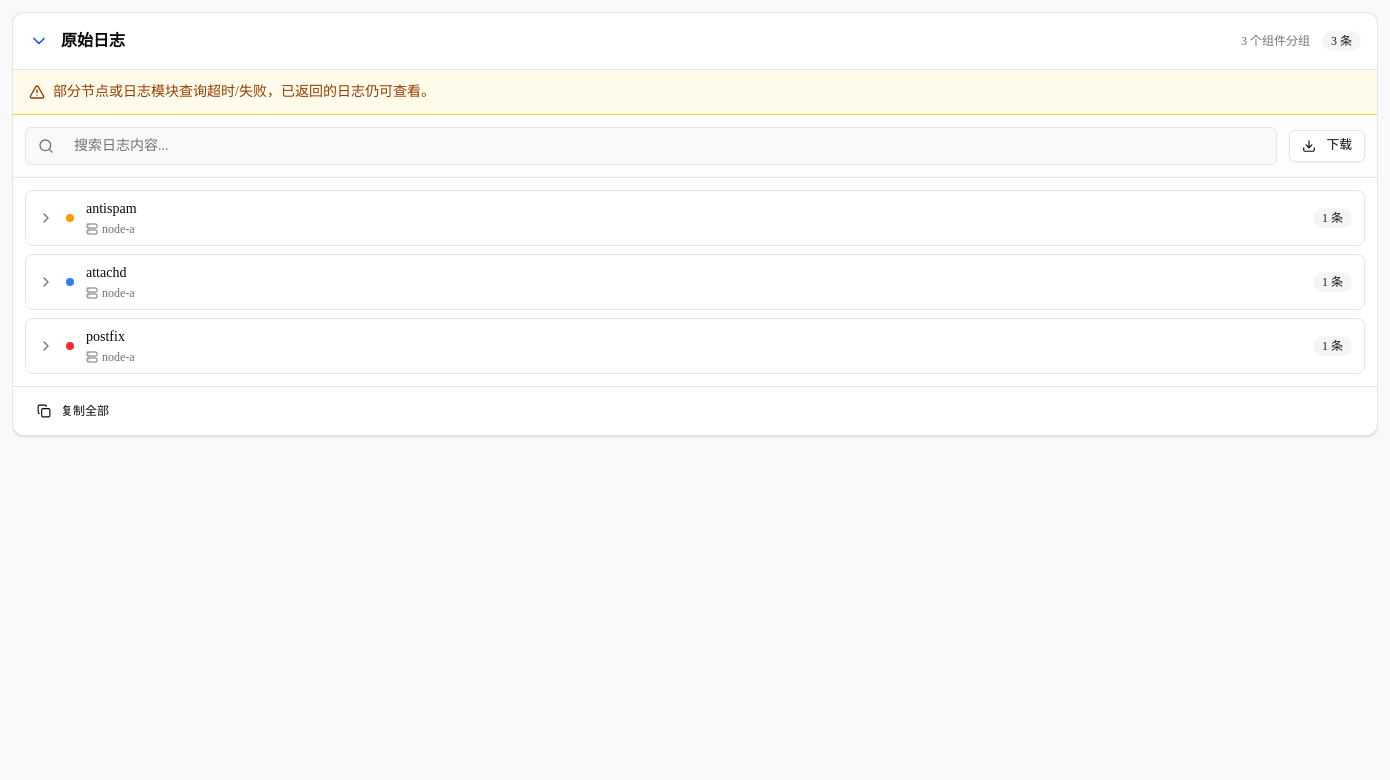
RawLogsSection › marks node-or-module partial results without hiding returned logs
Expected: the element with test id "raw-logs-partial-warning" shows "部分节点或日志模块查询超时/失败", left=53, top=84, right=435, bottom=99
Click the button with test id "^raw-log-group-trigger-\\d+$" at (111, 208), box left=26, top=191, right=1364, bottom=245
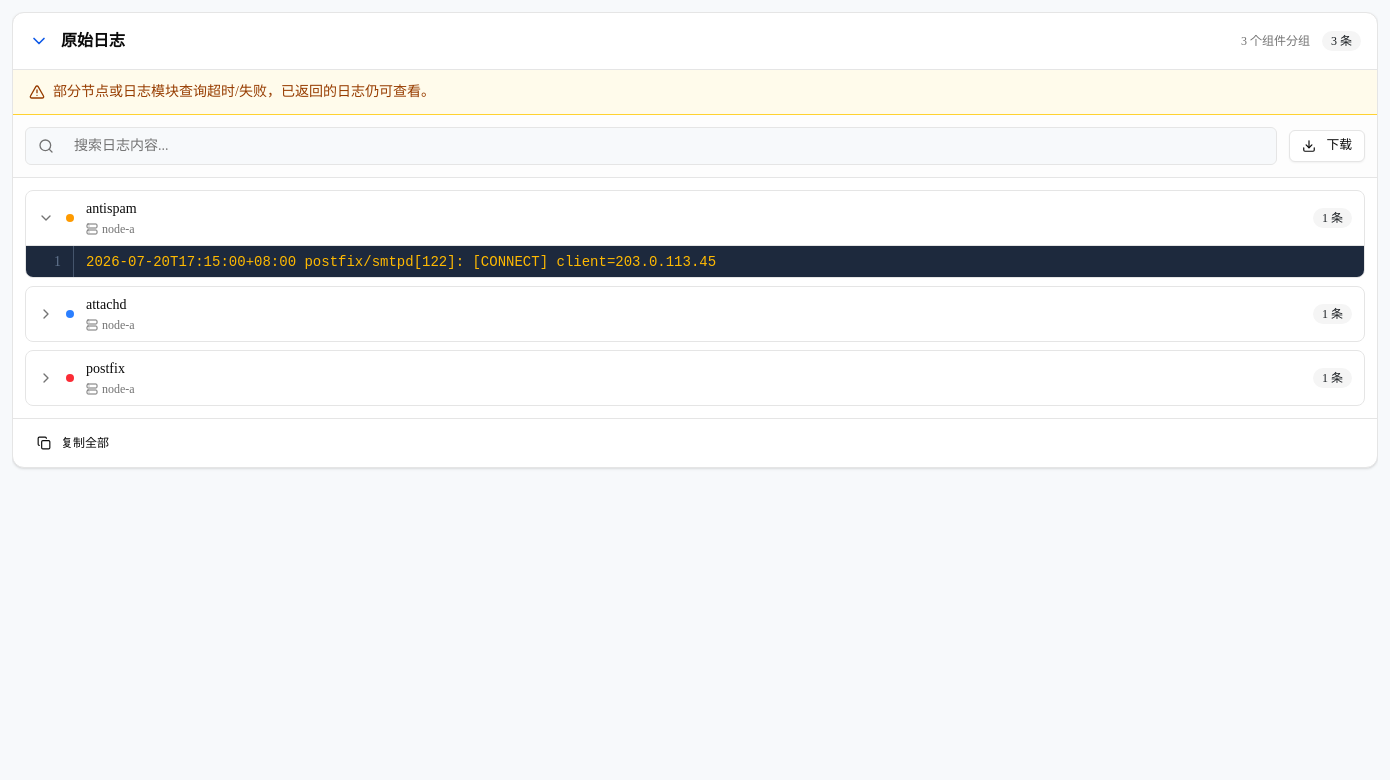
Click the button with test id "^raw-log-group-trigger-\\d+$" at (106, 304), box left=26, top=287, right=1364, bottom=341
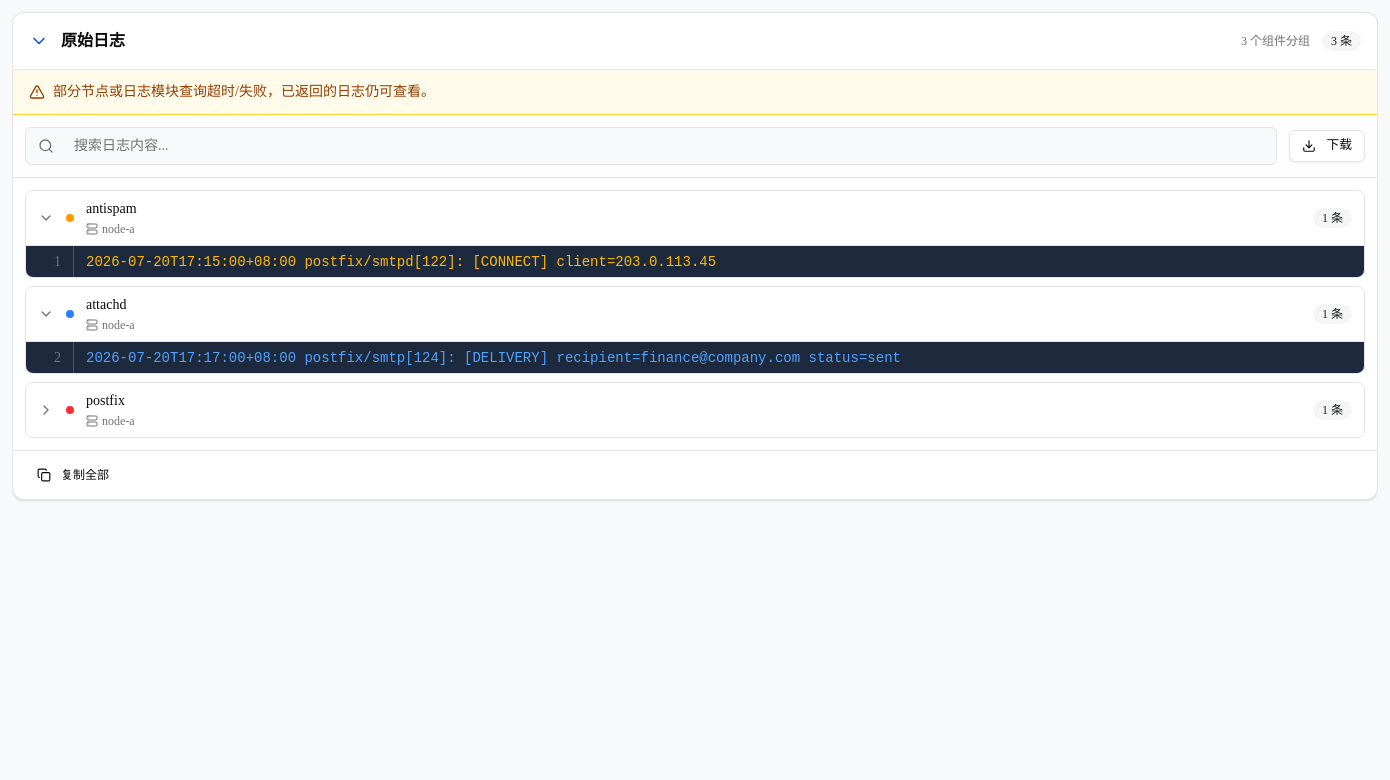
Click the button with test id "^raw-log-group-trigger-\\d+$" at (105, 400), box left=26, top=383, right=1364, bottom=437
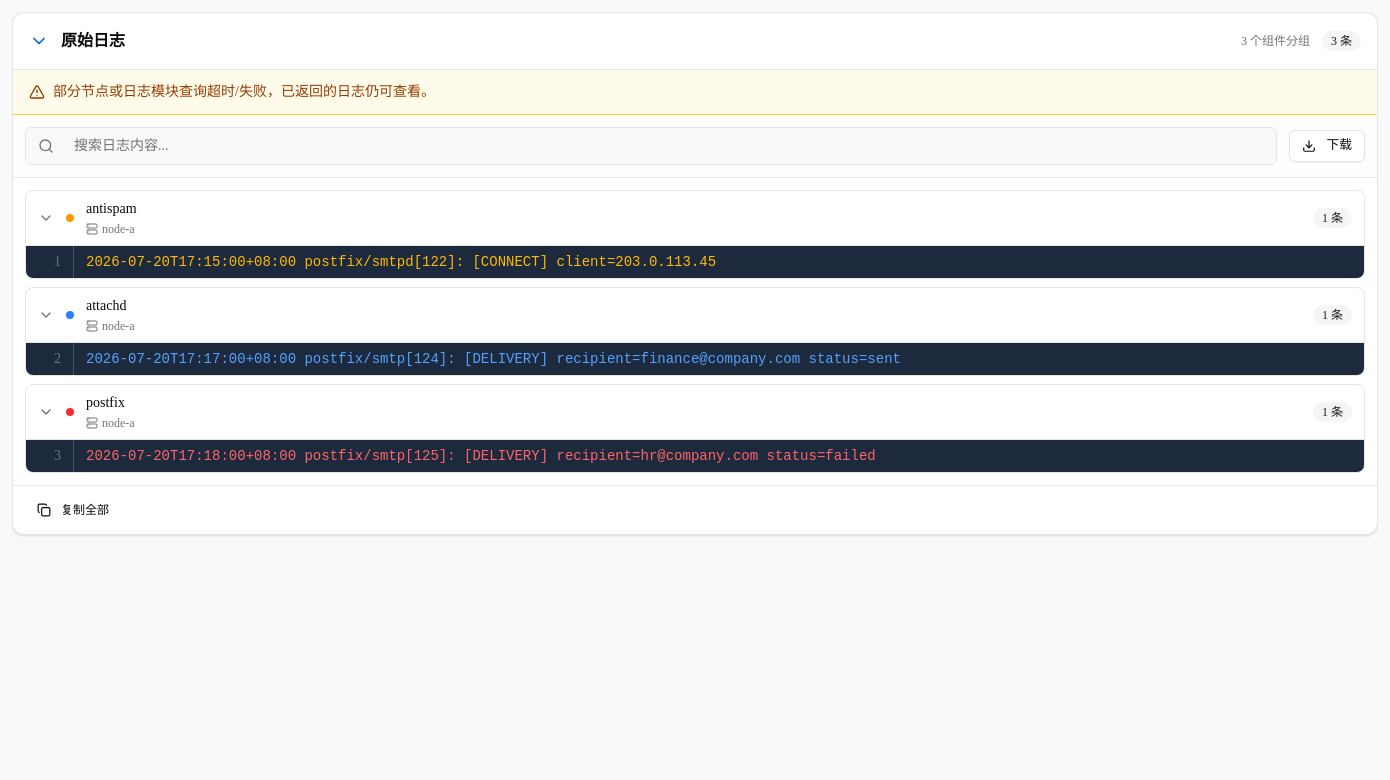
Now the element with test id "raw-logs-viewer" shows "status=failed", box left=86, top=448, right=876, bottom=464
